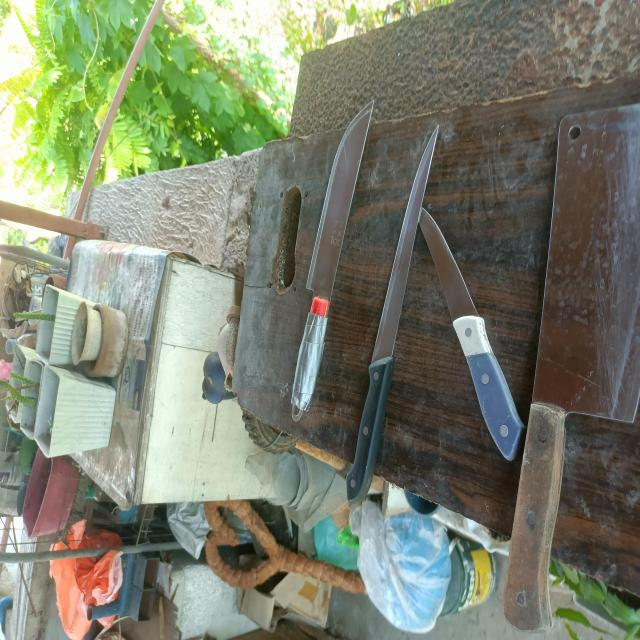knife: (281, 100, 374, 417)
